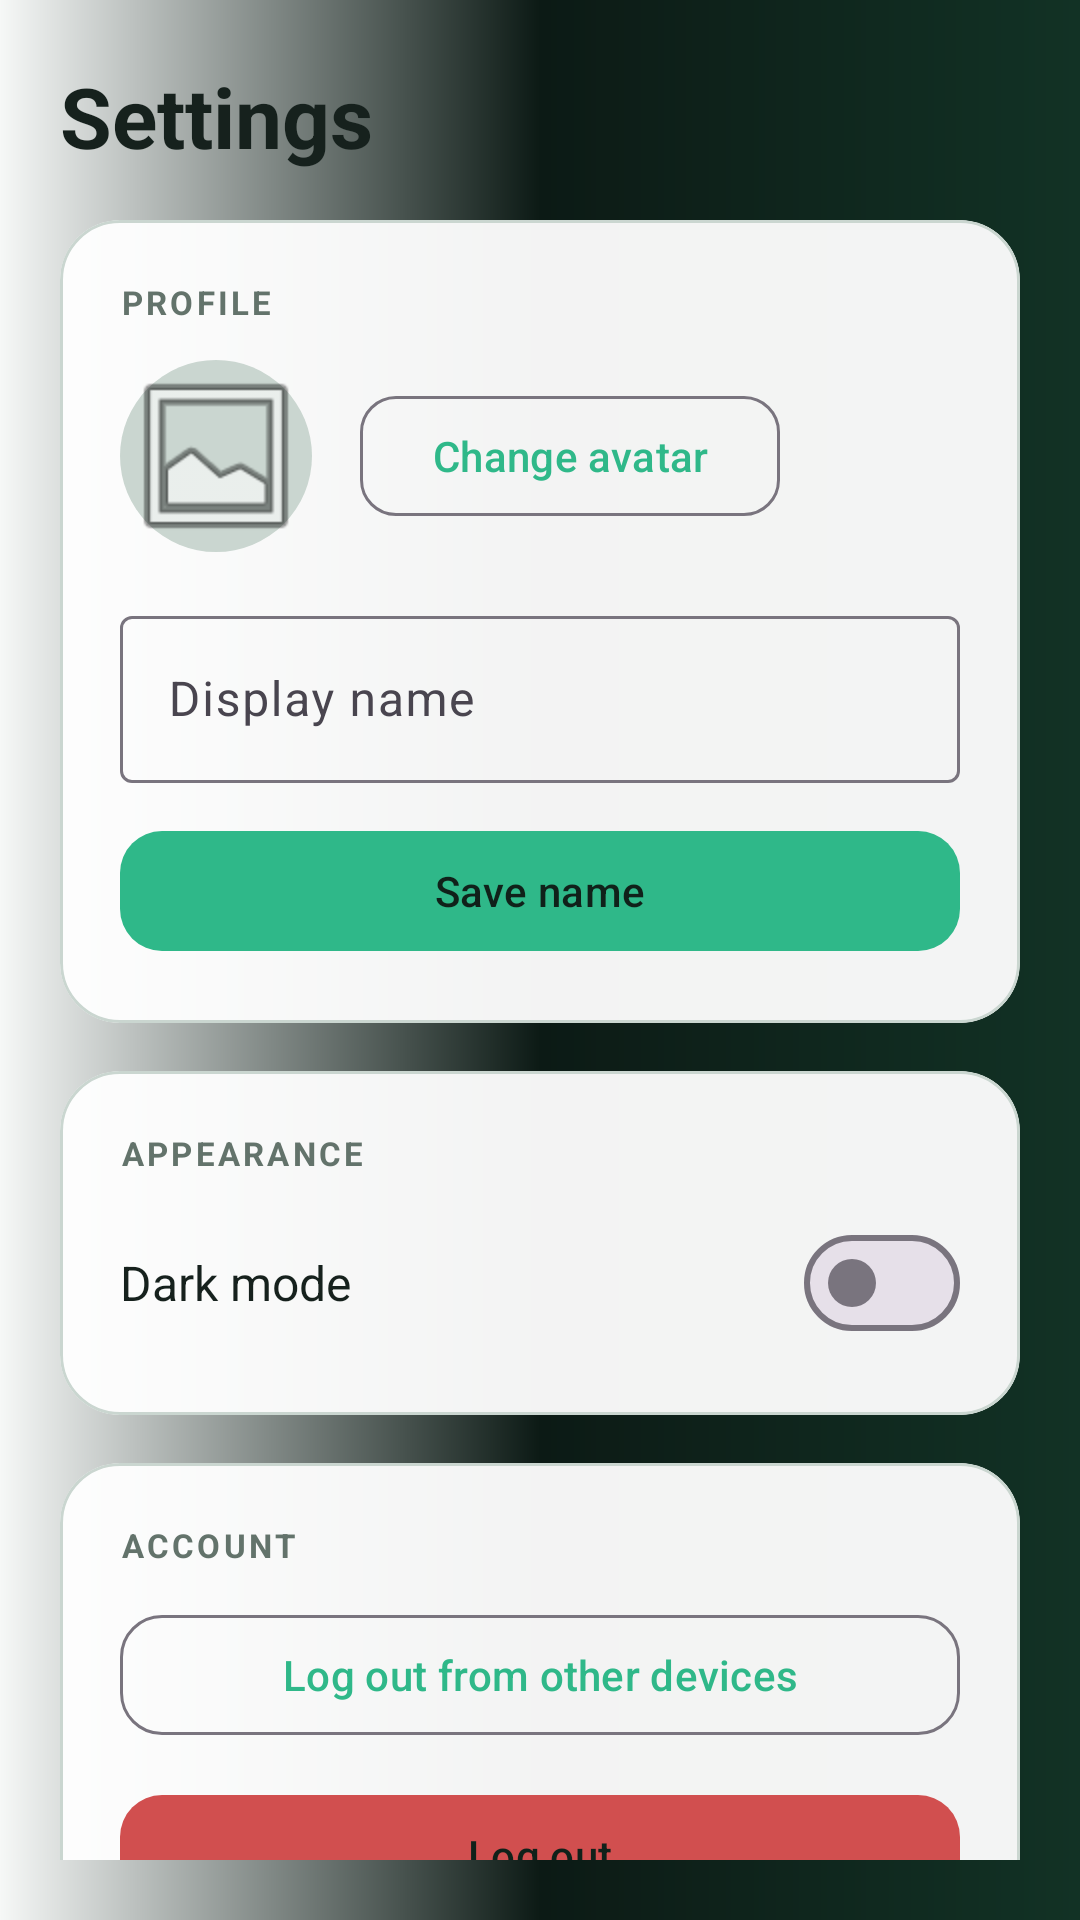

Screen size 1080 × 1920. Icon name, then its box in pixels as (x1, y1, x2, y2):
gallery: (120, 360, 312, 552)
